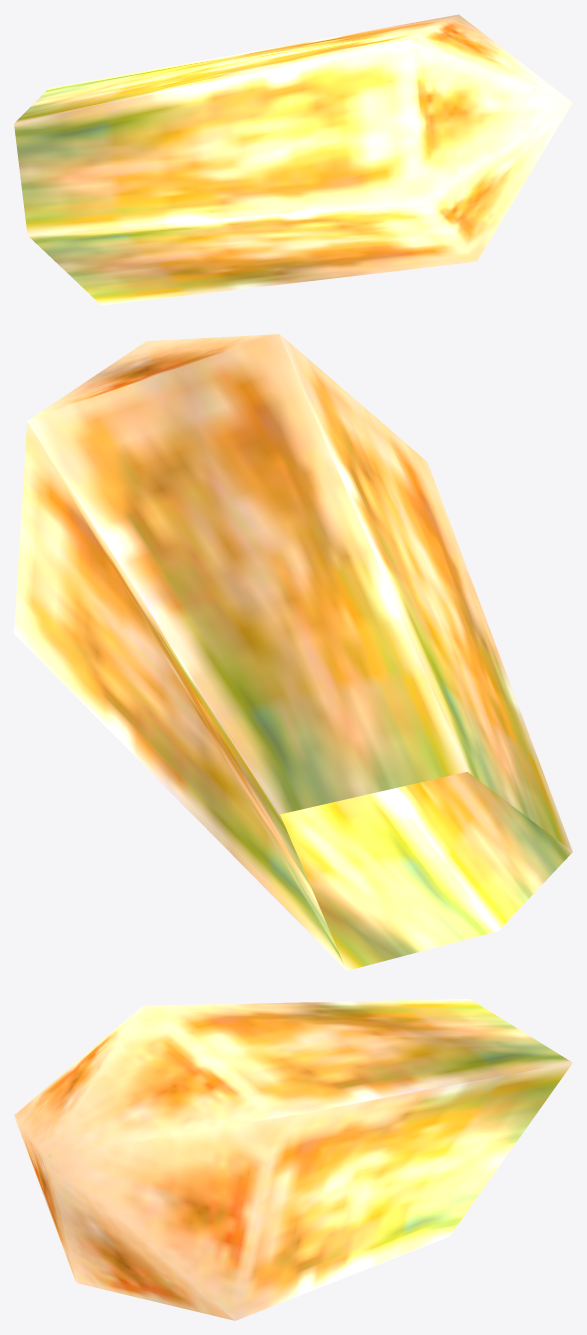
File: crystal-orange.glb
The picture shows the model from 3 angles, top to bottom: view 1: azimuth 30°, elevation 25°; view 2: azimuth 150°, elevation 25°; view 3: azimuth 270°, elevation 25°; orthographic projection. The views are drawn at different scales.
Visible parts, largest first — view 1: Crystals Orange; view 2: Crystals Orange; view 3: Crystals Orange.
Boxes of the visible parts, x1,y1,x2,y2 form: Crystals Orange: (14,14,572,305); Crystals Orange: (14,334,572,970); Crystals Orange: (14,999,572,1320).
Size of the model in its own units: 1.87 by 1.18 by 1.81.
Materials: 1 (1 with a texture image).
